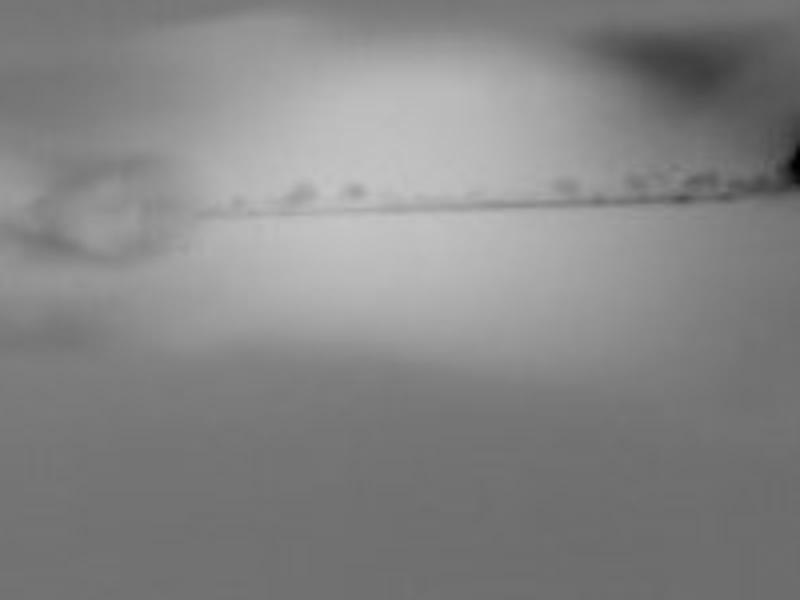defect: (773, 151, 800, 192), (281, 183, 318, 211), (683, 171, 720, 192), (549, 176, 580, 200), (730, 175, 770, 193), (344, 182, 370, 203), (626, 178, 650, 199), (230, 189, 251, 210)
